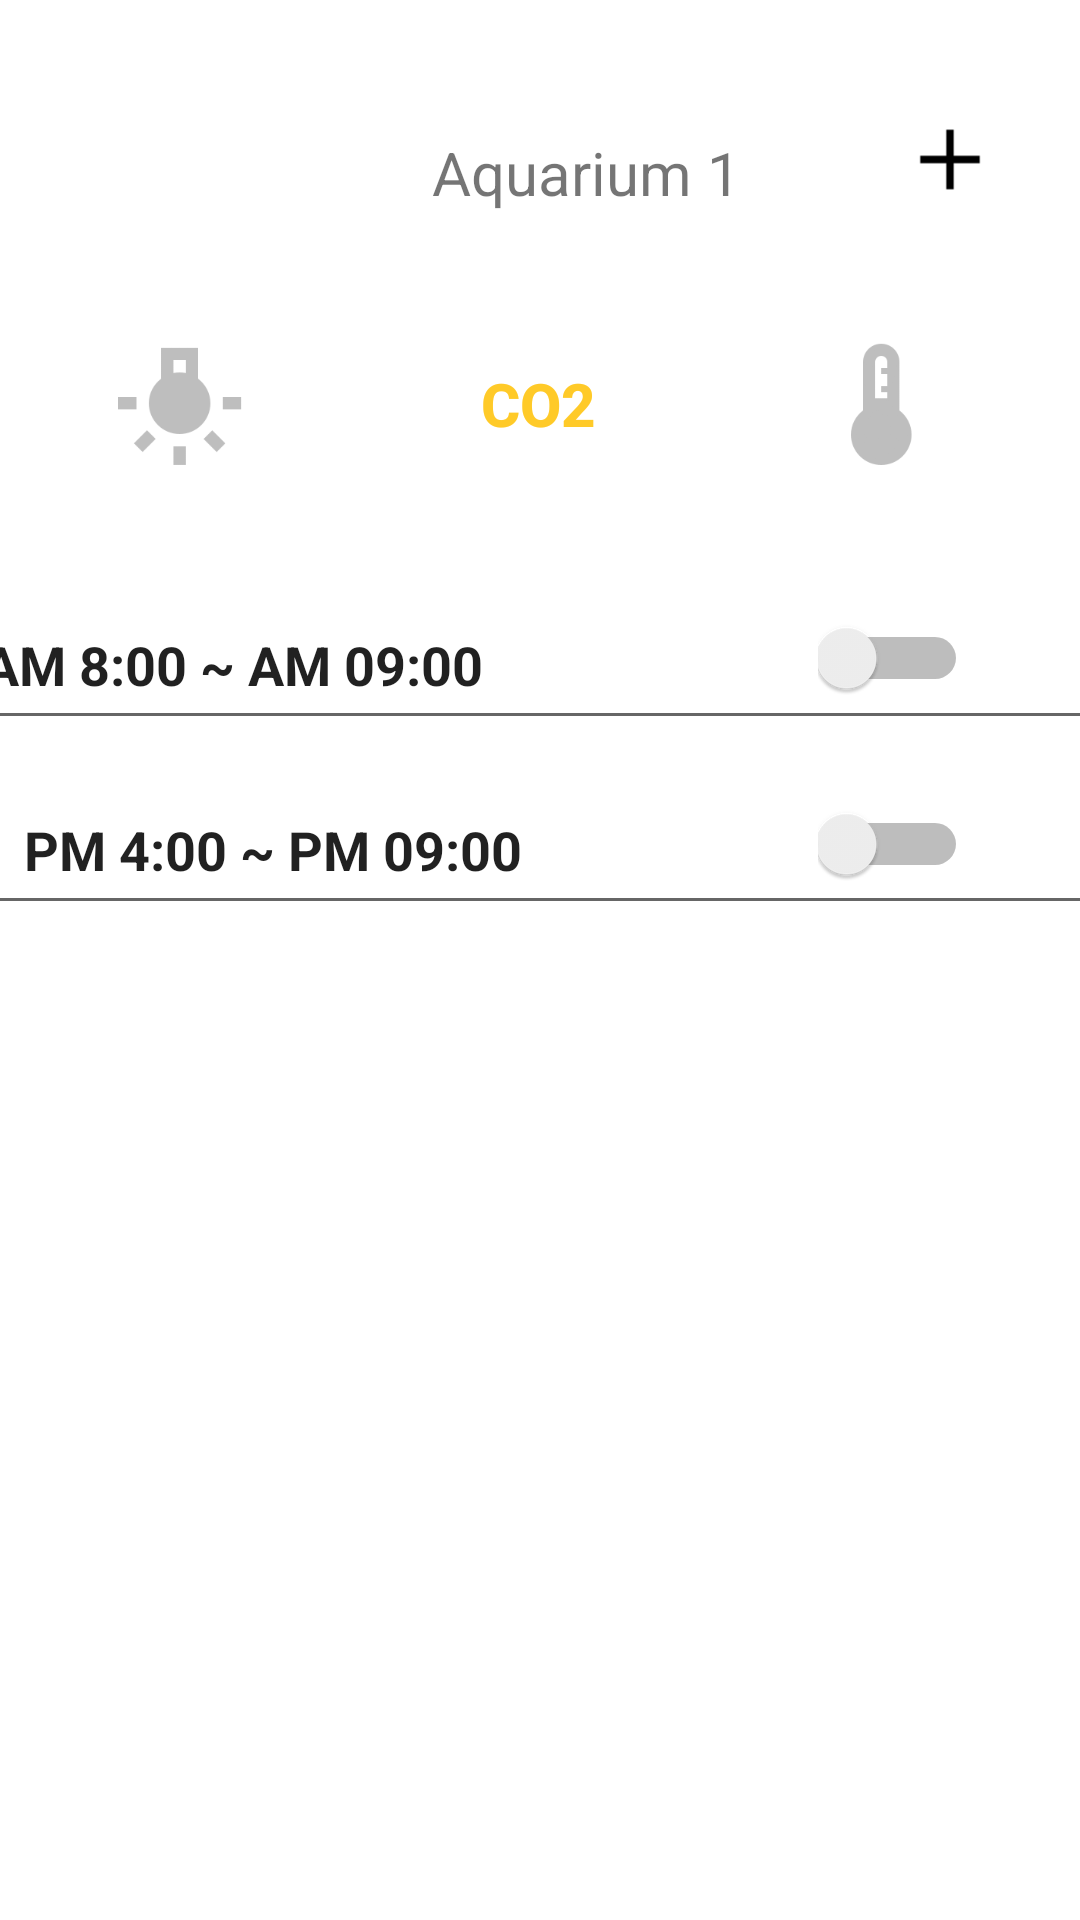

Locate icon controls on the screen. Image size 1080 x 1920, boxes as (x1, y1, x2, y2).
led: (118, 348, 241, 465)
plus: (919, 129, 981, 190)
